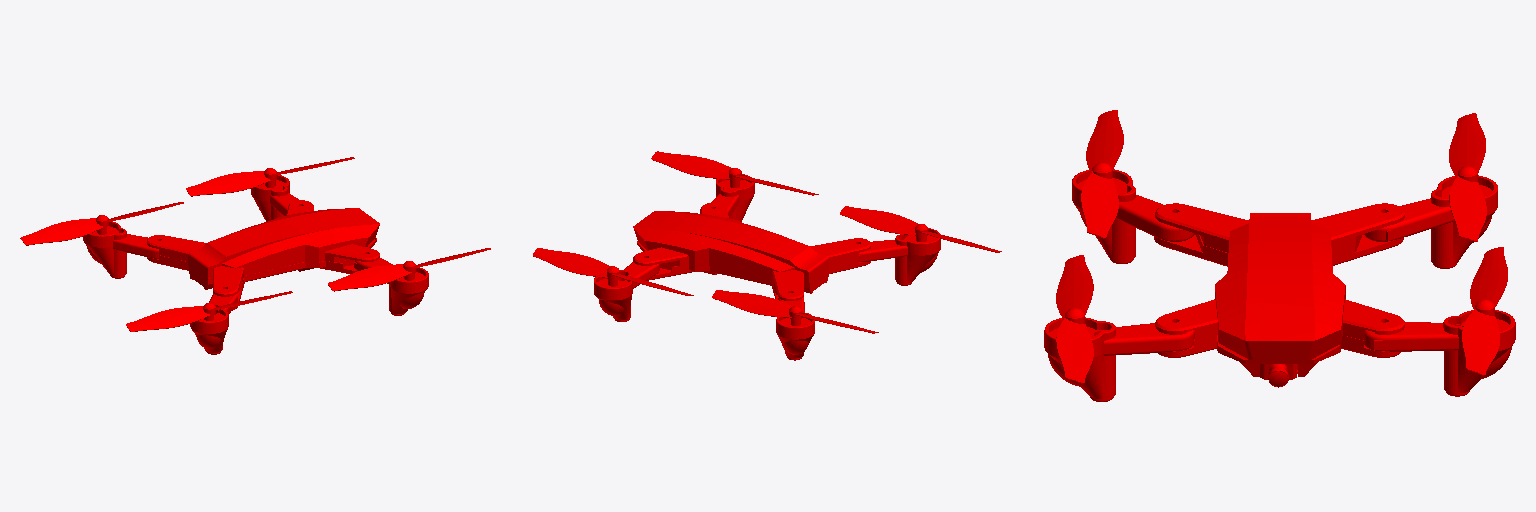
robot.urdf — GEN3_URDF_V12:
<robot name="GEN3_URDF_V12" version="1.0">

    <link name="Base_Link">
        <inertial>
            <origin xyz="0 0 0" rpy="0 0 0"/>
            <mass value="1"/>
            <inertia ixx="0" ixy="0" ixz="0" iyy="0" iyz="0" izz="0"/>
        </inertial>
        <visual>
            <origin xyz="0 0 0" rpy="0 0 0"/>
            <geometry>
                <mesh filename="drone.stl"/>
            </geometry>
            <material name="">
                <color rgba="1 0 0 1"/>
            </material>
        </visual>
    </link>

</robot>

--- What the picture shows (computed from the rendered views, not written in the file) ---
3 views of the same robot in one strip: view 1: azimuth 30°, elevation 25°; view 2: azimuth 150°, elevation 25°; view 3: azimuth 270°, elevation 25° (orthographic).
Model GEN3_URDF_V12 with 1 links and 0 joints (none), rooted at Base_Link, posed all joints at 0.
Links seen in each view (by area): view 1: Base_Link; view 2: Base_Link; view 3: Base_Link.
Link boxes in pixels (x1,y1,x2,y2): Base_Link: (20,157,490,354); Base_Link: (533,151,1001,360); Base_Link: (1044,110,1515,401).
Bounding box of the posed robot: 0.3169 × 0.2321 × 0.05 m (x, y, z).
1 mesh visuals loaded from 1 distinct referenced files (1 binary STL).